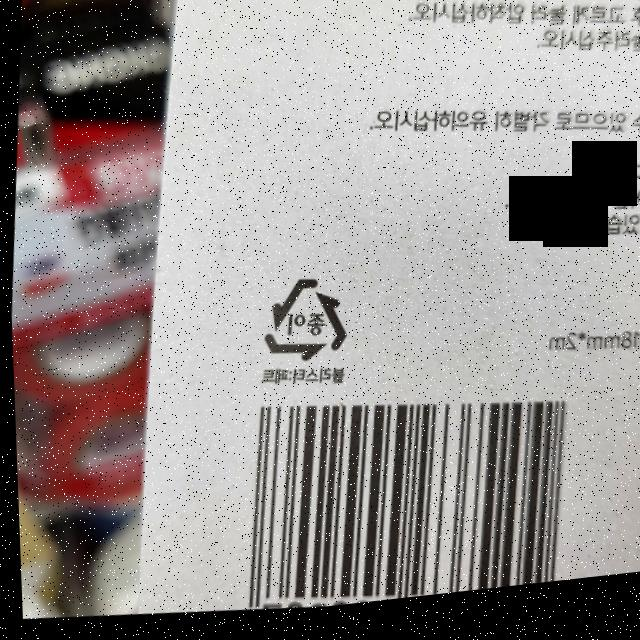Paper: (254, 274, 351, 376)
